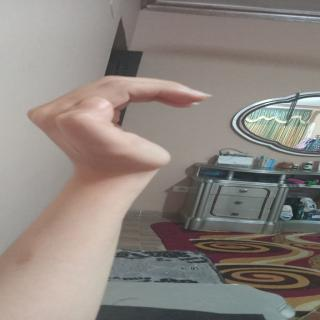HAA: (32, 67, 222, 184)
